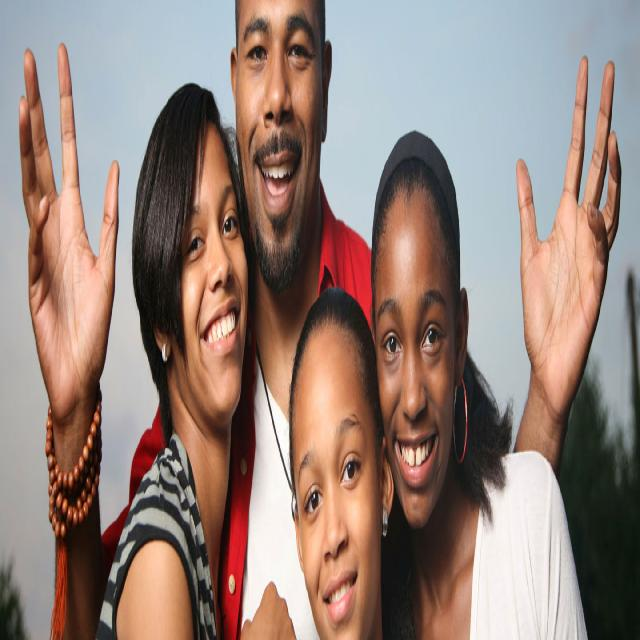adult: (18, 1, 622, 640), (371, 129, 589, 640), (104, 82, 249, 640)
child: (290, 285, 393, 640)
